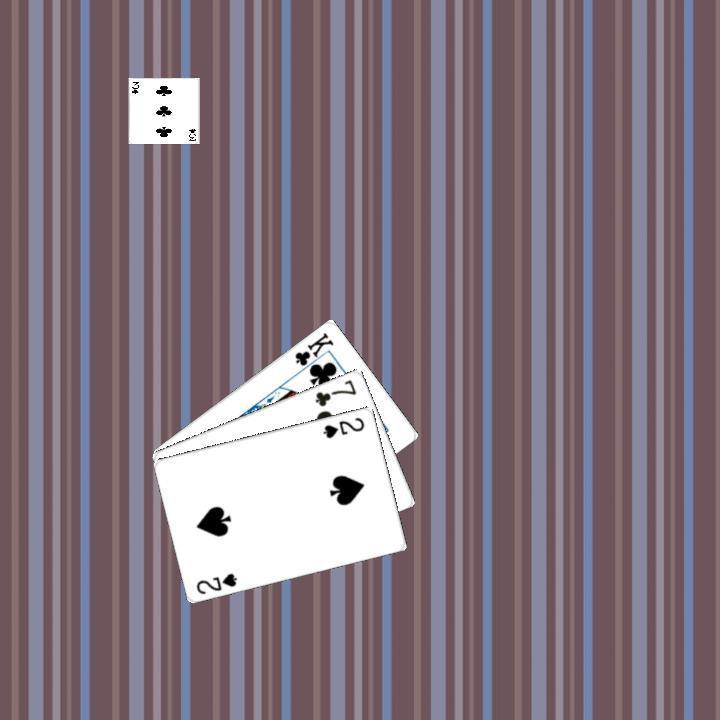2: (319, 412, 367, 440), (192, 568, 240, 596)
7: (311, 375, 358, 408)
K: (290, 328, 336, 375)
